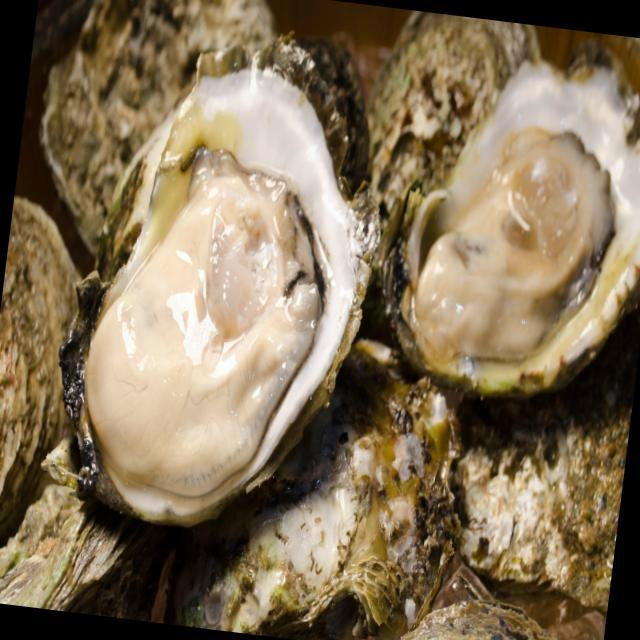Oyster-Closed: (172, 340, 458, 640), (34, 0, 272, 251), (369, 14, 540, 313), (456, 358, 630, 607), (0, 482, 174, 619), (0, 198, 80, 489)
Oyster-Open: (62, 41, 368, 526), (399, 62, 640, 393)
